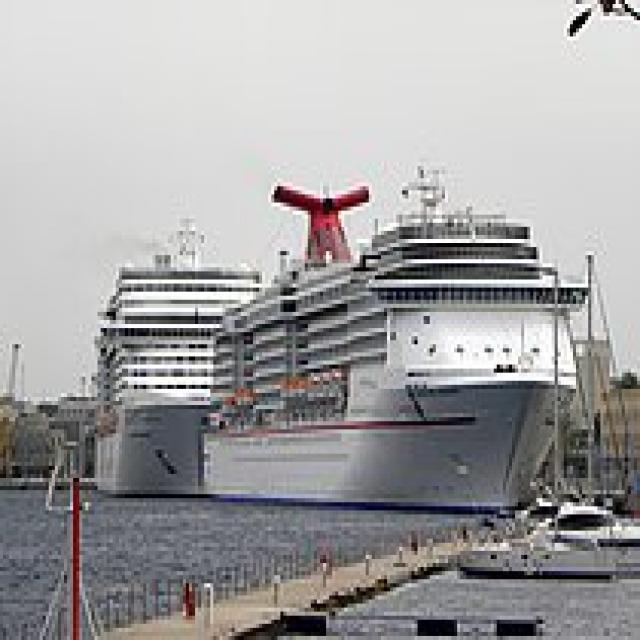Ship: (187, 155, 605, 516)
